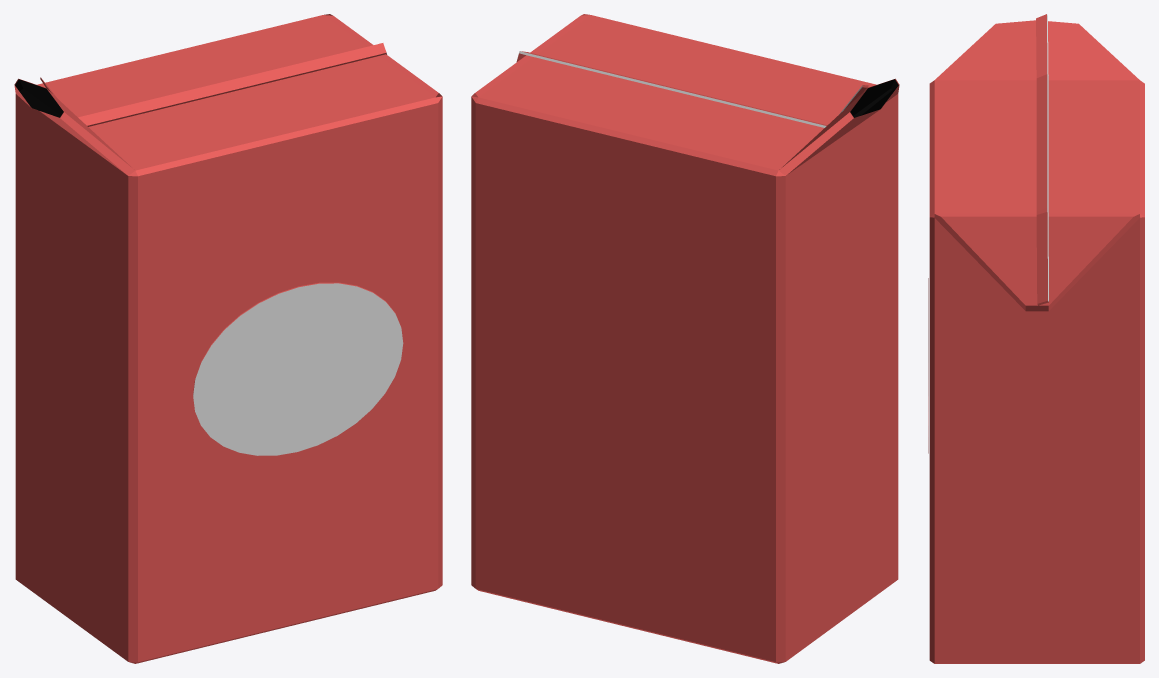
The model's file is Milk.fbx.
The picture shows the model from 3 angles, left to right: view 1: azimuth 30°, elevation 25°; view 2: azimuth 150°, elevation 25°; view 3: azimuth 270°, elevation 25°; orthographic projection. The views are drawn at different scales.
Visible parts, largest first — view 1: Куб; view 2: Куб; view 3: Куб.
Part boxes in pixels (x1,y1,x2,y2): Куб: [14, 14, 442, 663]; Куб: [471, 14, 899, 663]; Куб: [928, 14, 1144, 663].
Bounding box in the file's own units: 4.82 × 6.69 × 2.62.
